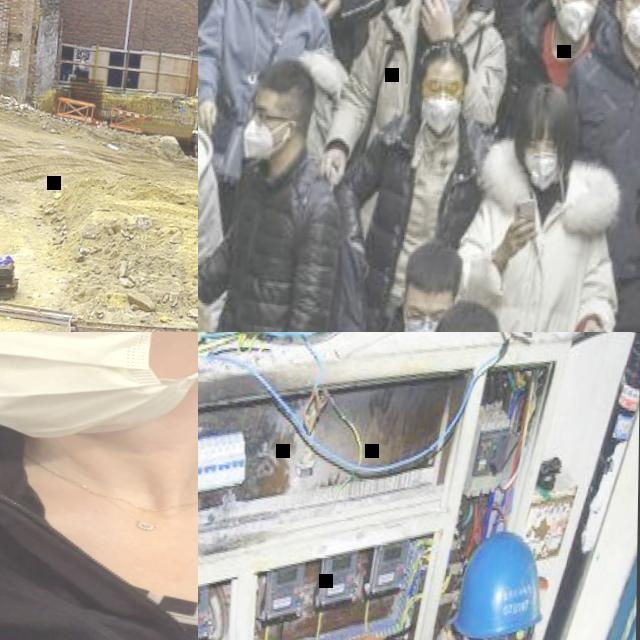Hardhat: (448, 526, 554, 640)
Mask: (0, 332, 198, 462), (418, 93, 464, 138), (240, 119, 282, 168), (550, 0, 597, 41), (522, 153, 559, 191), (614, 0, 640, 53), (416, 0, 468, 24), (398, 311, 441, 332)
NO-Hardhat: (402, 237, 467, 299), (514, 78, 576, 142), (254, 53, 322, 104), (418, 31, 473, 77), (436, 299, 511, 332)
NO-Safety Vest: (0, 400, 198, 640), (551, 46, 640, 288), (463, 189, 602, 332), (215, 164, 330, 332), (505, 27, 579, 112), (255, 0, 376, 39)
Person: (0, 332, 198, 640), (325, 23, 503, 332), (431, 72, 640, 332), (198, 42, 367, 332), (328, 0, 526, 247), (519, 0, 640, 332), (198, 0, 356, 187), (368, 521, 611, 640), (492, 0, 633, 160), (198, 24, 258, 332), (337, 232, 471, 332), (559, 177, 640, 332), (234, 0, 409, 68), (384, 0, 543, 61), (365, 292, 578, 332), (198, 204, 257, 332)
